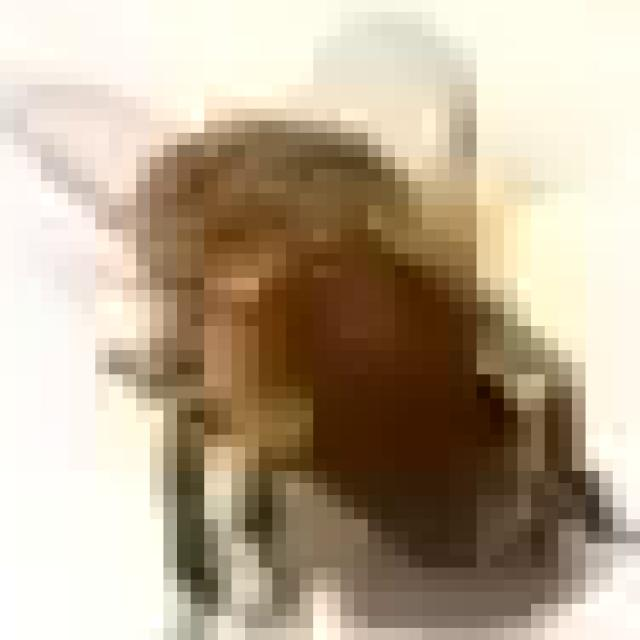honeybee: (71, 96, 631, 608)
